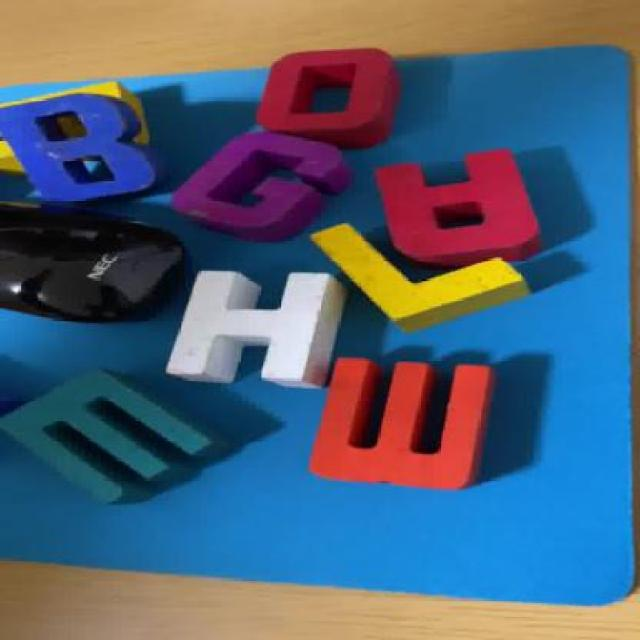B: (1, 93, 159, 204)
G: (176, 128, 347, 228)
H: (169, 268, 346, 389)
L: (307, 224, 550, 328)
M: (7, 364, 230, 504)
O: (259, 42, 406, 142)
W: (315, 359, 500, 490)
